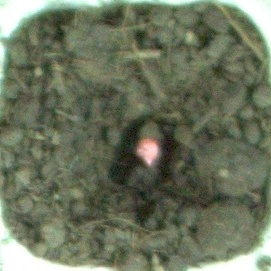pepper seed: (51, 49, 214, 219)
